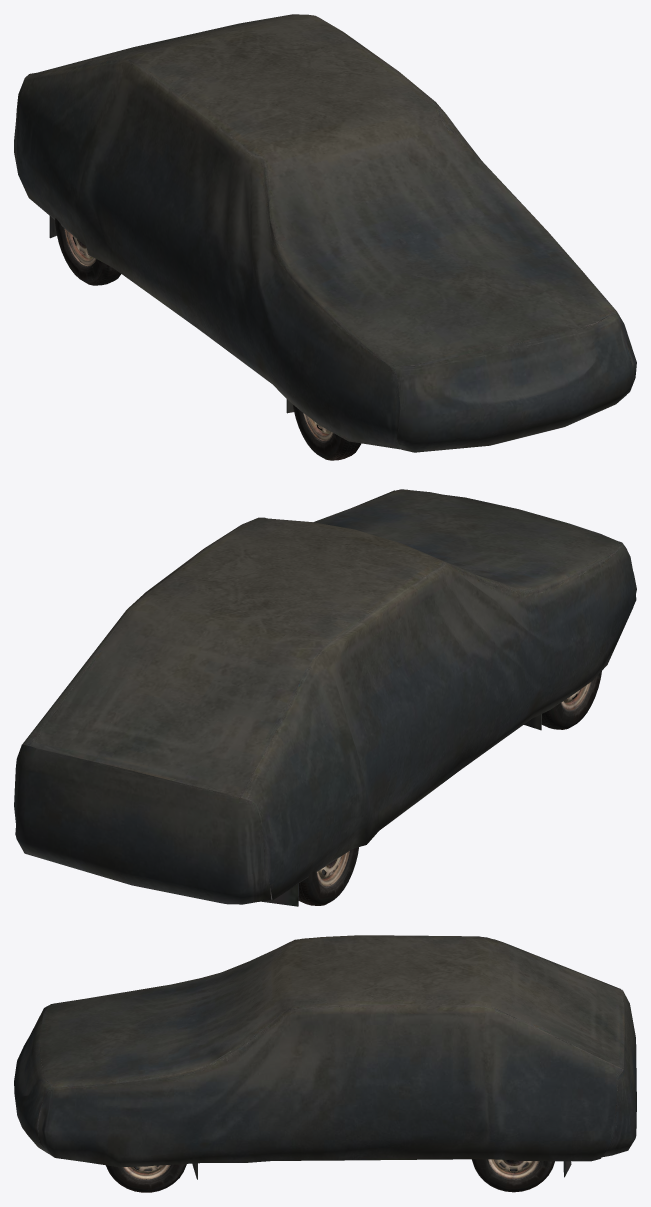
File: covered_car.glb
3 views of the same model, one above another, from view 1: azimuth 30°, elevation 25°; view 2: azimuth 150°, elevation 25°; view 3: azimuth 270°, elevation 25° (orthographic). The views are drawn at different scales.
Visible parts, largest first — view 1: covered_car, covered_car_wheel_03, covered_car_wheel_02; view 2: covered_car, covered_car_wheel_03, covered_car_wheel_02; view 3: covered_car, covered_car_wheel_04, covered_car_wheel_01.
Part boxes in pixels (left/top/right/bottom): covered_car: left=14, top=14, right=636, bottom=452; covered_car_wheel_03: left=55, top=218, right=120, bottom=285; covered_car_wheel_02: left=293, top=405, right=361, bottom=460; covered_car: left=14, top=489, right=636, bottom=906; covered_car_wheel_03: left=298, top=847, right=358, bottom=905; covered_car_wheel_02: left=541, top=671, right=601, bottom=729; covered_car: left=14, top=935, right=636, bottom=1179; covered_car_wheel_04: left=472, top=1159, right=554, bottom=1192; covered_car_wheel_01: left=106, top=1164, right=186, bottom=1192.
Size of the model in its own units: 1.79 by 1.41 by 4.37.
2 materials, 2 textured.
